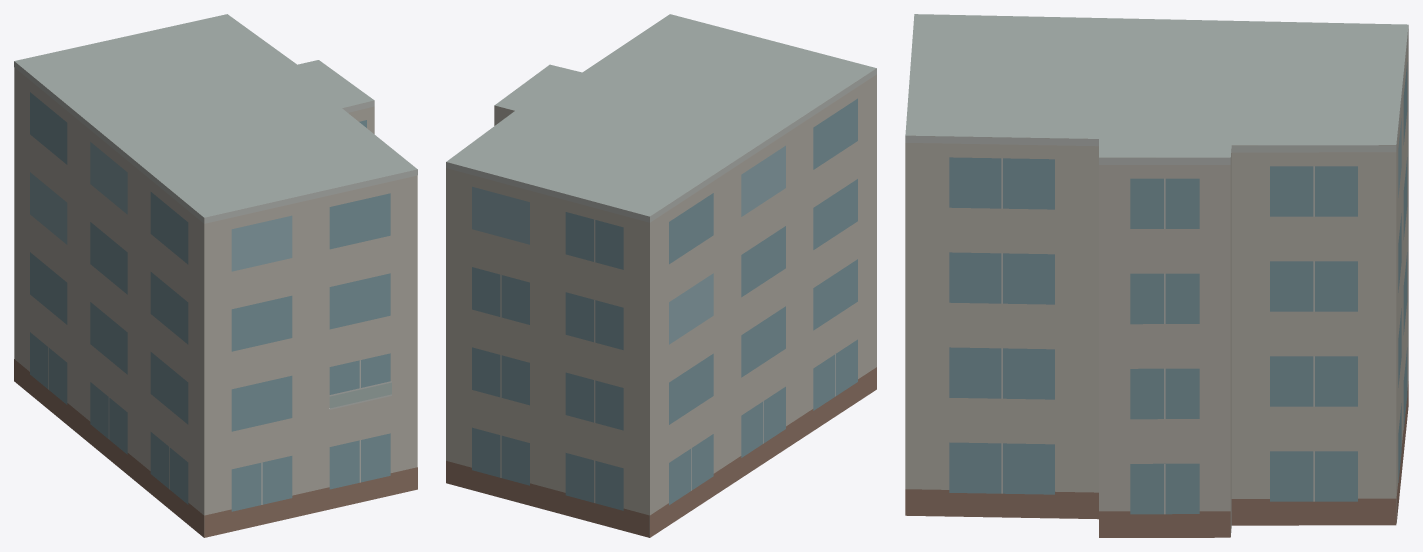
File: survey-upis-32669758.glb
3 renders of one model, left to right at view 1: azimuth 30°, elevation 25°; view 2: azimuth 150°, elevation 25°; view 3: azimuth 270°, elevation 25°, orthographic. The views are drawn at different scales.
Parts seen in each view (by area): view 1: survey-upis-32669758.tmp; view 2: survey-upis-32669758.tmp; view 3: survey-upis-32669758.tmp.
Part boxes in pixels (box(x1,y1,x2,y2)): survey-upis-32669758.tmp: box(14, 14, 417, 537); survey-upis-32669758.tmp: box(446, 14, 876, 537); survey-upis-32669758.tmp: box(905, 14, 1408, 537).
Size of the model in its own units: 10.39 by 12.8 by 15.37.
